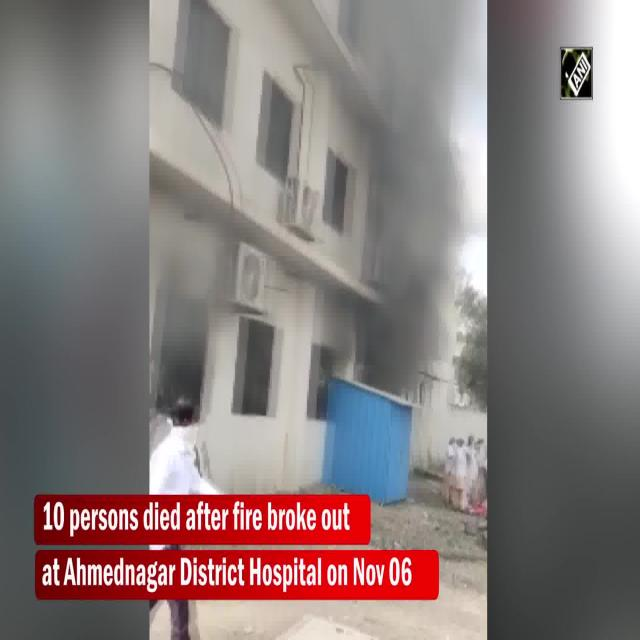smoke: (381, 12, 442, 432)
